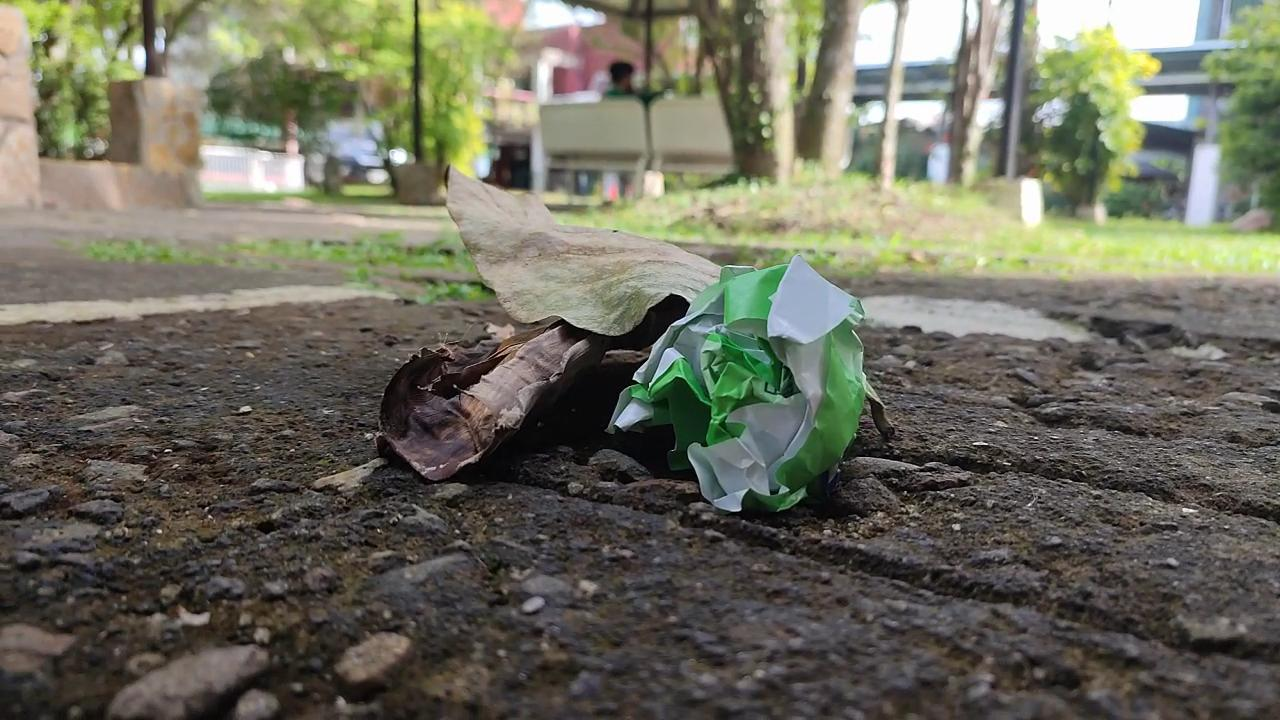Paper: (591, 227, 889, 539)
